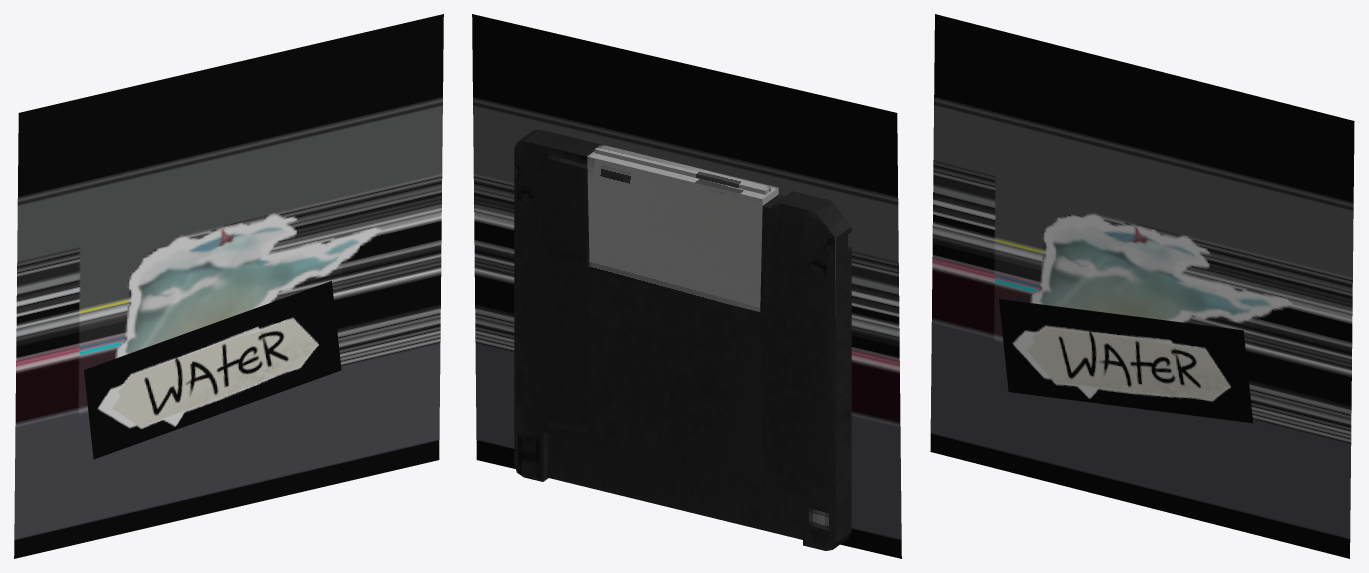
File: D_3glb.glb
3 renders of one model, left to right at view 1: azimuth 30°, elevation 25°; view 2: azimuth 150°, elevation 25°; view 3: azimuth 330°, elevation 25°, orthographic.
Parts seen in each view (by area): view 1: Plane.010, Plane.002; view 2: Cube.003, Plane.010; view 3: Plane.010, Plane.002.
Boxes of the visible parts, x1,y1,x2,y2 form: Plane.010: [14, 14, 443, 558]; Plane.002: [84, 281, 341, 459]; Cube.003: [514, 129, 851, 550]; Plane.010: [472, 14, 901, 558]; Plane.010: [930, 14, 1354, 558]; Plane.002: [999, 299, 1253, 423].
Size of the model in its own units: 3.8 by 3.8 by 0.2535.
Materials: 3 (3 with a texture image).
